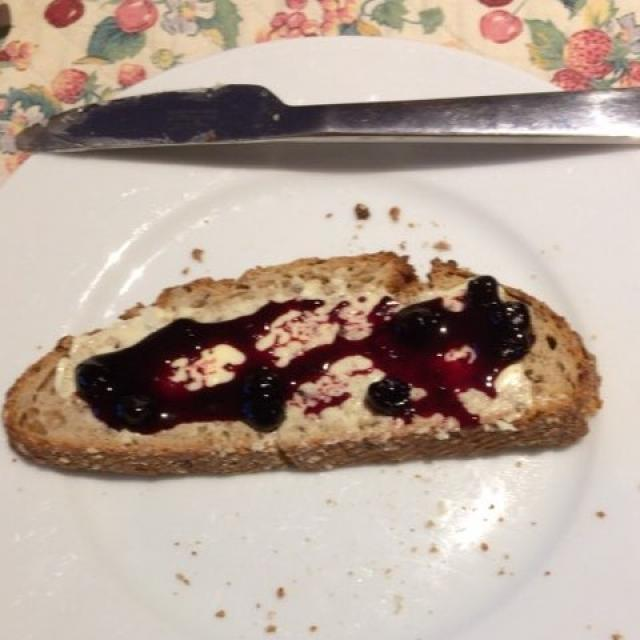bread: (10, 261, 595, 474)
jam: (67, 275, 539, 437), (69, 277, 539, 437), (69, 286, 533, 432)
